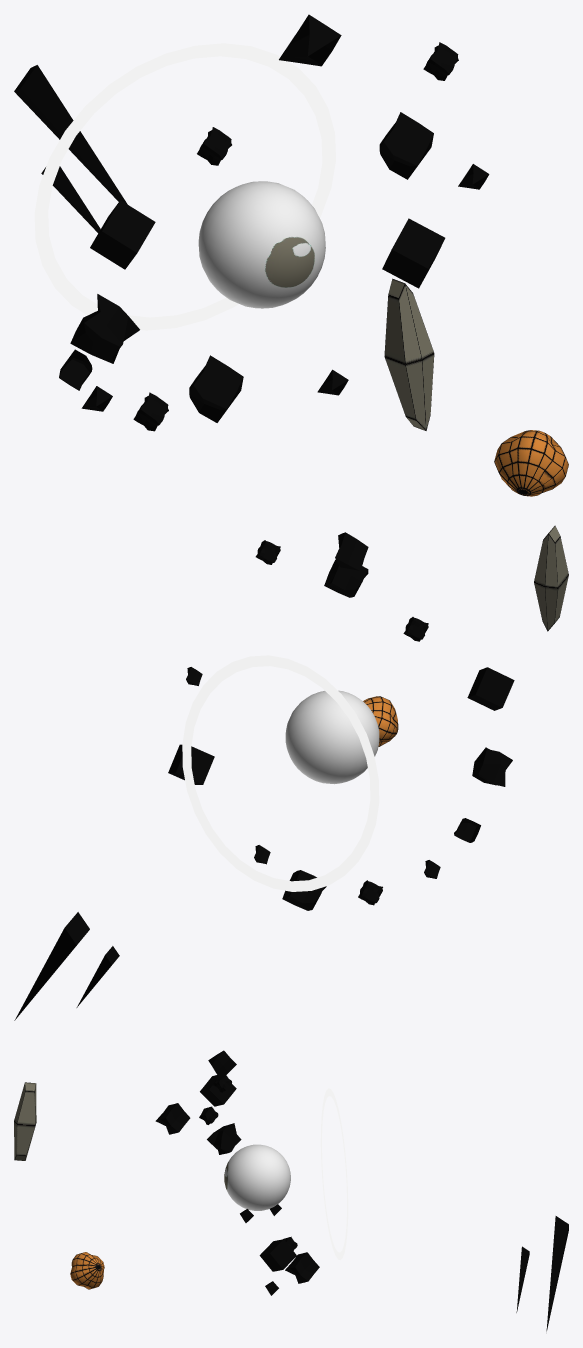
Rendered from MobMini-transformed.glb.
The picture shows the model from 3 angles, top to bottom: view 1: azimuth 30°, elevation 25°; view 2: azimuth 150°, elevation 25°; view 3: azimuth 270°, elevation 25°; orthographic projection. The views are drawn at different scales.
Parts seen in each view (by area): view 1: Cube.007, EYE.002, HALO.001, Cube.011, mountain1.001, lilbigbomb.001; view 2: Cube.007, HALO.001, EYE.002, Cube.011, mountain1.001, lilbigbomb.001; view 3: Cube.007, EYE.002, Cube.011, mountain1.001, lilbigbomb.001, HALO.001.
Boxes of the visible parts, x1,y1,x2,y2 form: Cube.007: (59, 14, 489, 431); EYE.002: (198, 181, 325, 308); HALO.001: (34, 43, 335, 330); Cube.011: (384, 278, 434, 430); mountain1.001: (14, 65, 127, 232); lilbigbomb.001: (494, 430, 568, 496); Cube.007: (168, 532, 514, 910); HALO.001: (182, 655, 379, 891); EYE.002: (285, 690, 379, 784); Cube.011: (534, 525, 568, 631); mountain1.001: (14, 912, 119, 1020); lilbigbomb.001: (363, 696, 398, 746); Cube.007: (155, 1050, 319, 1295); EYE.002: (224, 1144, 290, 1210); Cube.011: (14, 1082, 36, 1160); mountain1.001: (516, 1216, 568, 1331); lilbigbomb.001: (70, 1252, 104, 1289); HALO.001: (320, 1088, 348, 1260).
Size of the model in its own units: 0.3517 by 0.3735 by 0.76.
26 materials, 24 textured.
